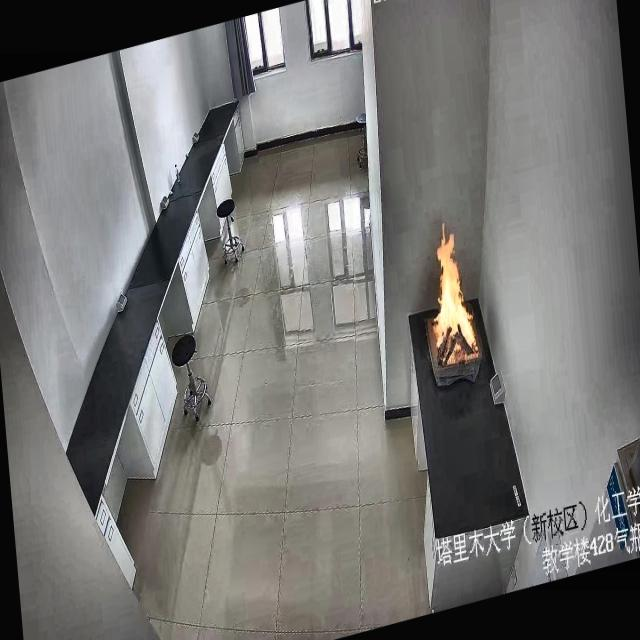fire: (412, 205, 502, 394)
